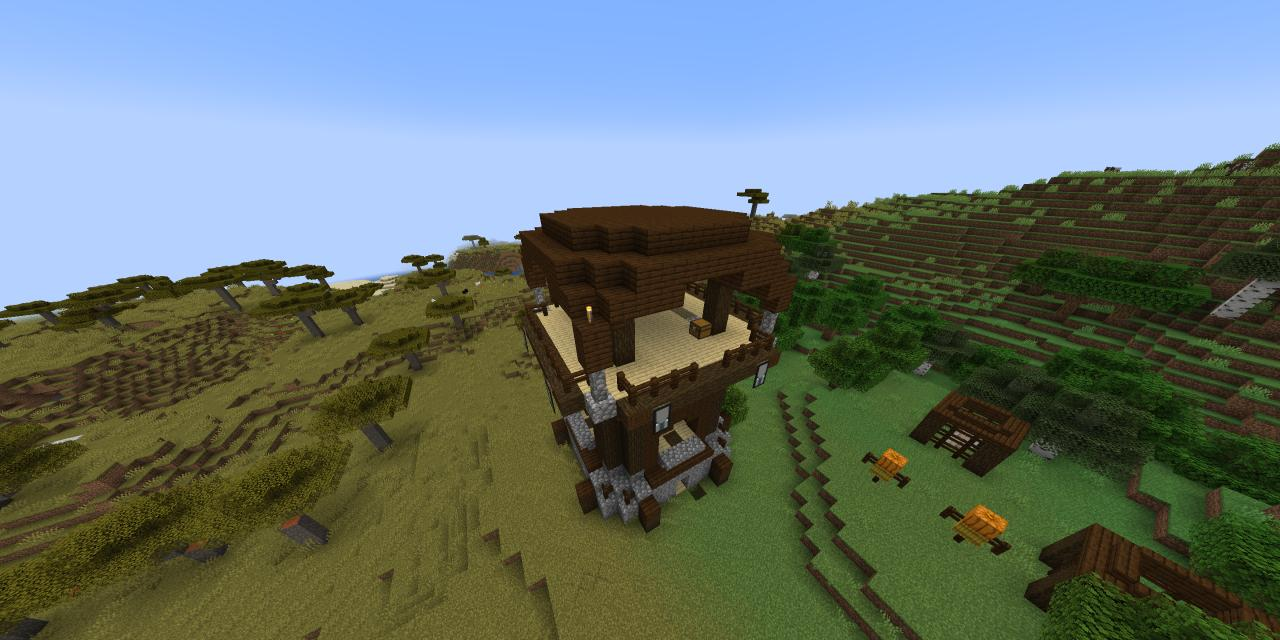pillager outpost: (515, 194, 802, 536)
